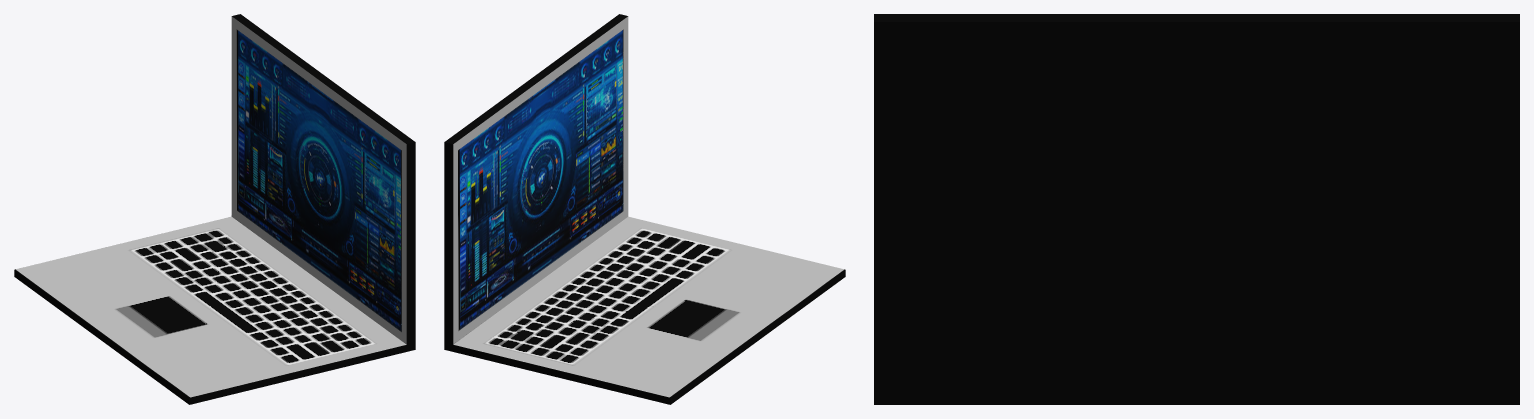
Rendered from Laptop_GenMain3.fbx.
3 renders of one model, left to right at view 1: azimuth 30°, elevation 25°; view 2: azimuth 150°, elevation 25°; view 3: azimuth 270°, elevation 25°, orthographic. The views are drawn at different scales.
Parts seen in each view (by area): view 1: Laptop; view 2: Laptop; view 3: Laptop.
Boxes of the visible parts, x1=… form: Laptop: x1=14, y1=14, x2=415, y2=404; Laptop: x1=444, y1=14, x2=845, y2=404; Laptop: x1=874, y1=14, x2=1519, y2=404.
Size of the model in its own units: 42.42 by 37.21 by 56.87.
